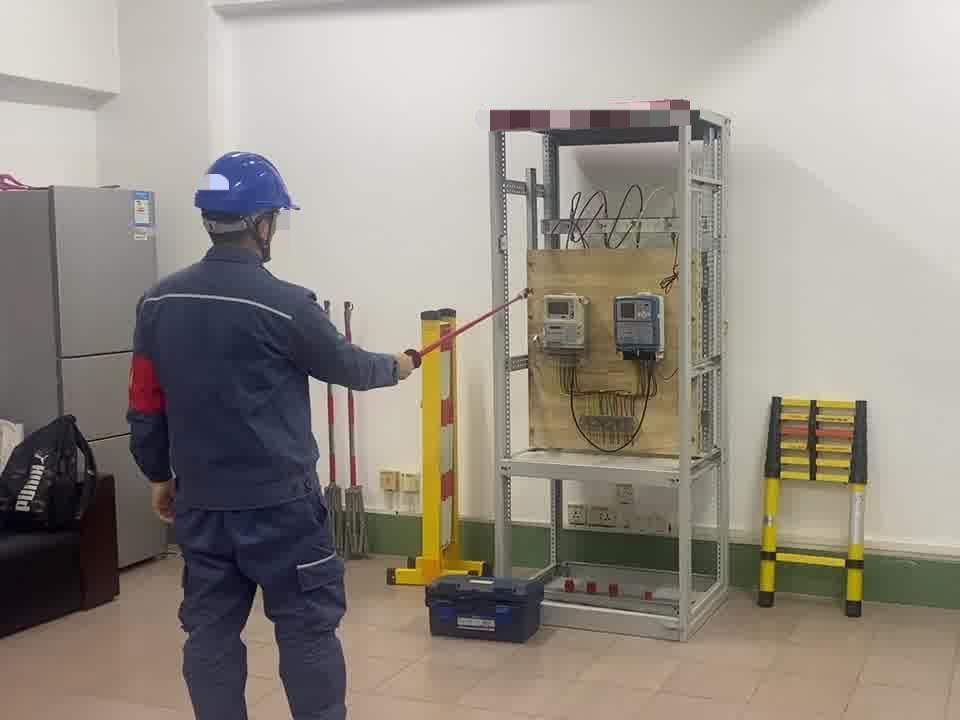halt: (194, 152, 303, 263)
inear: (248, 212, 280, 258)
